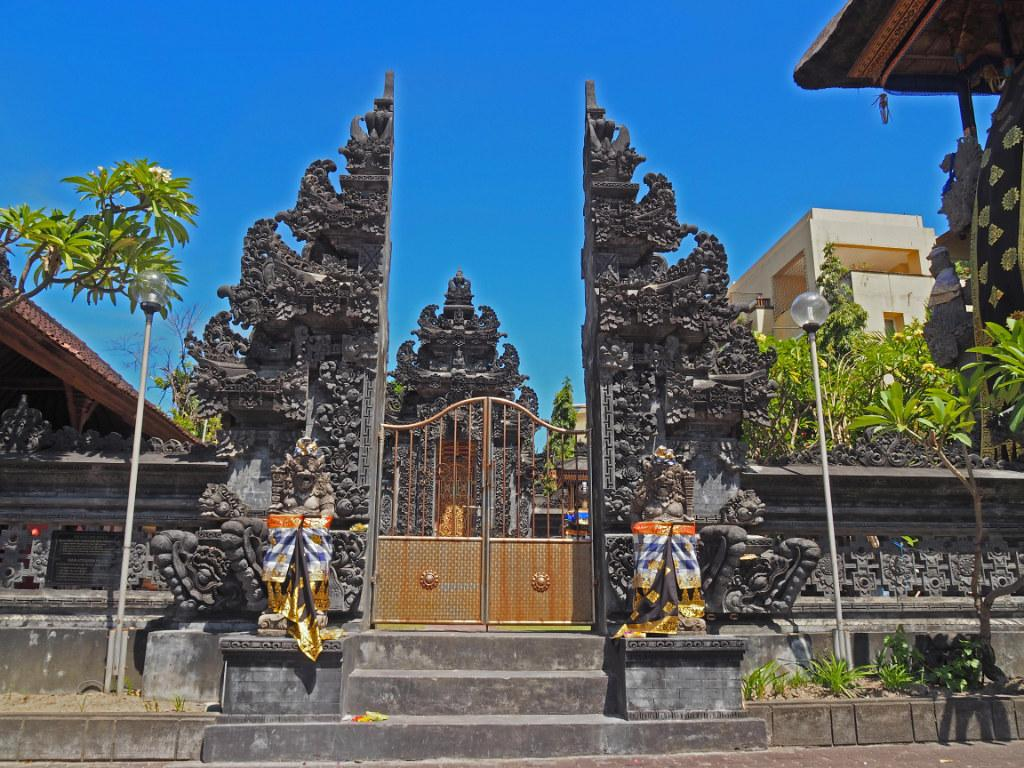temple: (183, 68, 397, 624), (579, 78, 782, 633), (364, 262, 563, 624)
